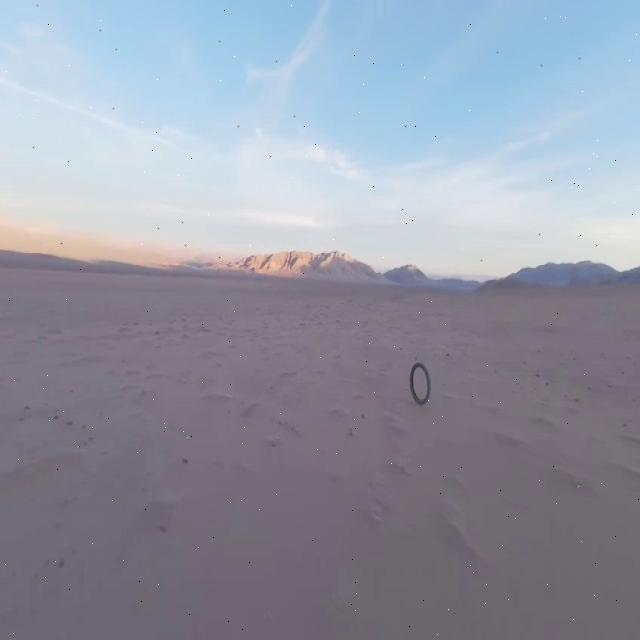Tire: (410, 362, 430, 403)
